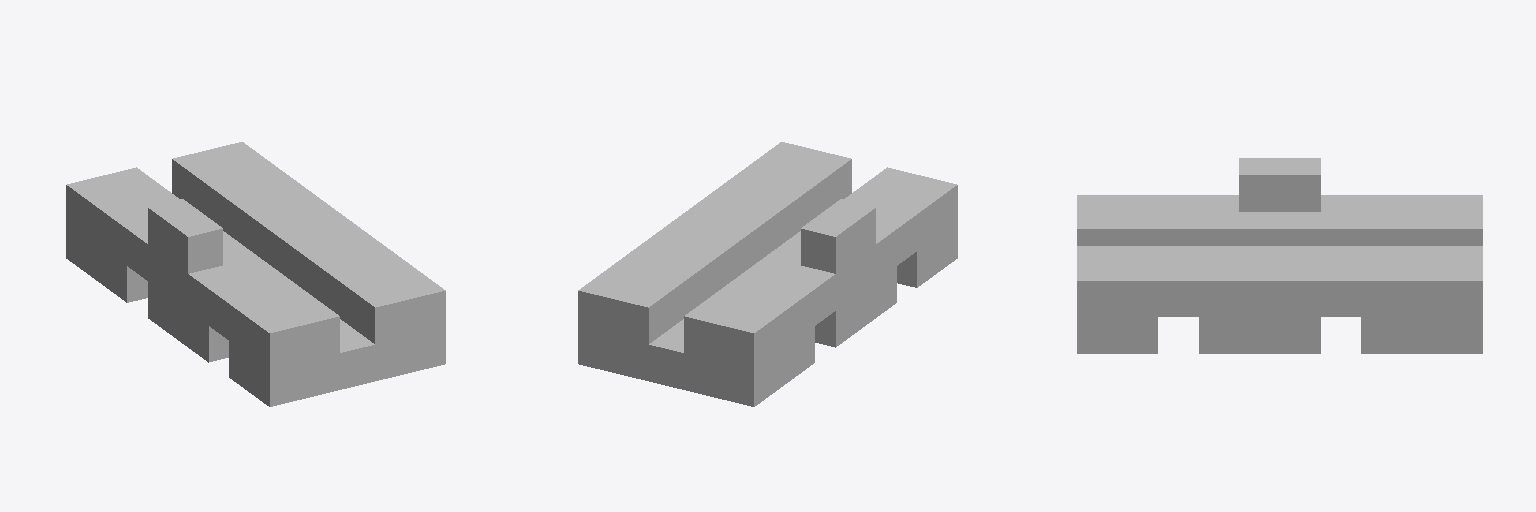
Rendered from Trap Door 2.obj.
The picture shows the model from 3 angles: view 1: azimuth 30°, elevation 25°; view 2: azimuth 150°, elevation 25°; view 3: azimuth 270°, elevation 25°; orthographic projection.
Size of the model in its own units: 5 by 3 by 10.